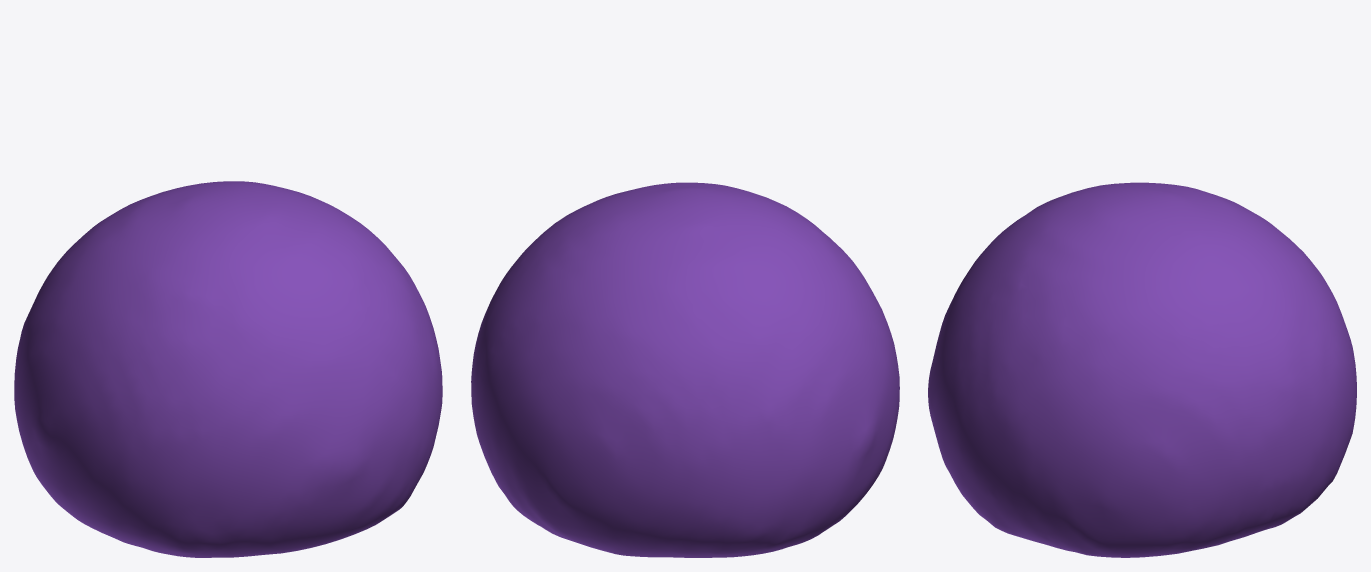
File: f22_full_sss.dae
3 views of the same model, side by side, from view 1: azimuth 30°, elevation 25°; view 2: azimuth 150°, elevation 25°; view 3: azimuth 270°, elevation 25° (orthographic).
Visible parts, largest first — view 1: Slime; view 2: Slime; view 3: Slime.
Part boxes in pixels (box(x1,y1,x2,y2)): Slime: box(14, 181, 442, 557); Slime: box(471, 182, 899, 557); Slime: box(928, 182, 1356, 557).
Bounding box in the file's own units: 2.05 × 2.57 × 2.06.
